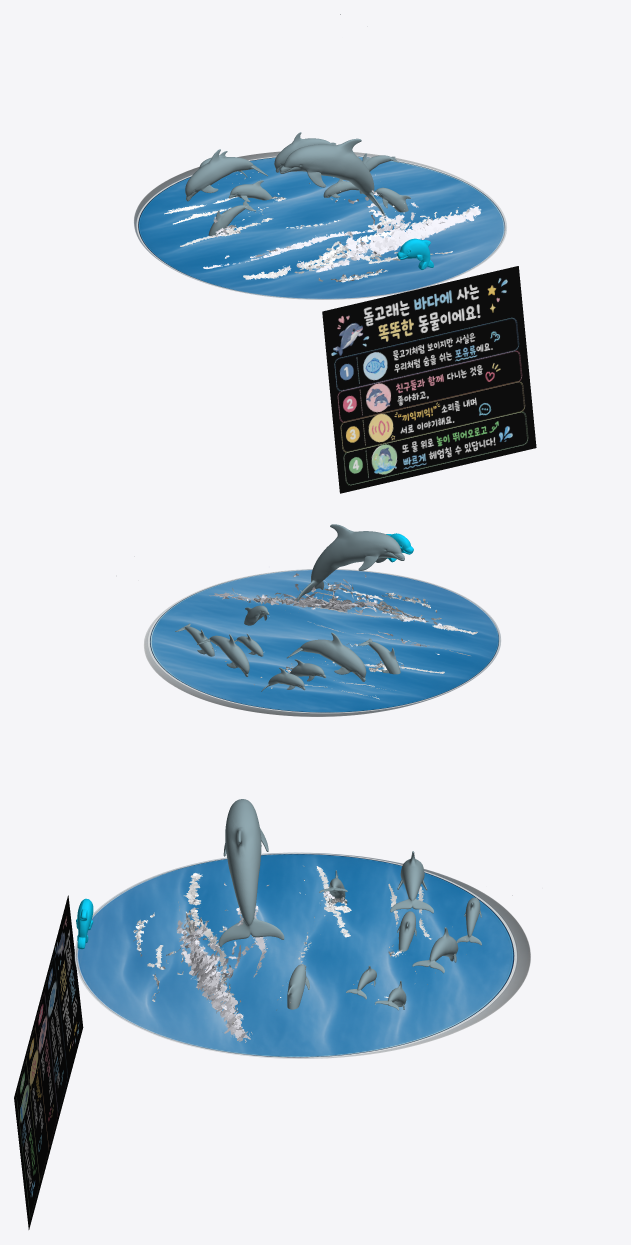
Rendered from 돌고래작품.glb.
3 renders of one model, top to bottom at view 1: azimuth 30°, elevation 25°; view 2: azimuth 150°, elevation 25°; view 3: azimuth 270°, elevation 25°, orthographic. The views are drawn at different scales.
Parts seen in each view (by area): view 1: image_ChatGPT Image 2026년 7월 6일 오후 12_51_49_0, image_ChatGPT Image 2026년 7월 6일 오전 11_50_46_0, brush_Splatter_g0_b0, 돌고래_0_0_4, 돌고래_0_0_7, 돌고래 키트_0_0_0; view 2: image_ChatGPT Image 2026년 7월 6일 오전 11_50_46_0, brush_Splatter_g0_b0, 돌고래_0_0_4, 돌고래_0_0_7, 돌고래_0_0_3, 돌고래_0_0_8, 돌고래_0_0_6, 돌고래_0_0_0, 돌고래_0_0_5, 돌고래_0_0_1; view 3: image_ChatGPT Image 2026년 7월 6일 오전 11_50_46_0, image_ChatGPT Image 2026년 7월 6일 오후 12_51_49_0, brush_Splatter_g0_b0, 돌고래_0_0_4, 돌고래_0_0_7, 돌고래_0_0_3, 돌고래_0_0_1, 돌고래 키트_0_0_0, 돌고래_0_0_6.
Part boxes in pixels (x1,y1,x2,y2): image_ChatGPT Image 2026년 7월 6일 오후 12_51_49_0: [322, 266, 536, 493]; image_ChatGPT Image 2026년 7월 6일 오전 11_50_46_0: [134, 151, 506, 299]; brush_Splatter_g0_b0: [164, 171, 481, 282]; 돌고래_0_0_4: [279, 138, 385, 217]; 돌고래_0_0_7: [185, 149, 267, 201]; 돌고래 키트_0_0_0: [397, 238, 433, 269]; image_ChatGPT Image 2026년 7월 6일 오전 11_50_46_0: [144, 569, 500, 716]; brush_Splatter_g0_b0: [209, 566, 477, 699]; 돌고래_0_0_4: [296, 524, 404, 601]; 돌고래_0_0_7: [287, 632, 366, 681]; 돌고래_0_0_3: [197, 634, 249, 676]; 돌고래_0_0_8: [358, 638, 400, 674]; 돌고래_0_0_6: [261, 667, 305, 691]; 돌고래_0_0_0: [175, 623, 214, 656]; 돌고래_0_0_5: [290, 659, 326, 681]; 돌고래_0_0_1: [244, 605, 269, 625]; image_ChatGPT Image 2026년 7월 6일 오전 11_50_46_0: [74, 852, 530, 1058]; image_ChatGPT Image 2026년 7월 6일 오후 12_51_49_0: [14, 895, 83, 1229]; brush_Splatter_g0_b0: [133, 865, 466, 1042]; 돌고래_0_0_4: [218, 799, 284, 946]; 돌고래_0_0_7: [390, 851, 433, 913]; 돌고래_0_0_3: [412, 927, 458, 973]; 돌고래_0_0_1: [287, 964, 309, 1009]; 돌고래 키트_0_0_0: [76, 898, 93, 949]; 돌고래_0_0_6: [456, 897, 481, 945].
Size of the model in its own units: 3.52 by 2.28 by 3.53.
6 materials, 4 textured.
